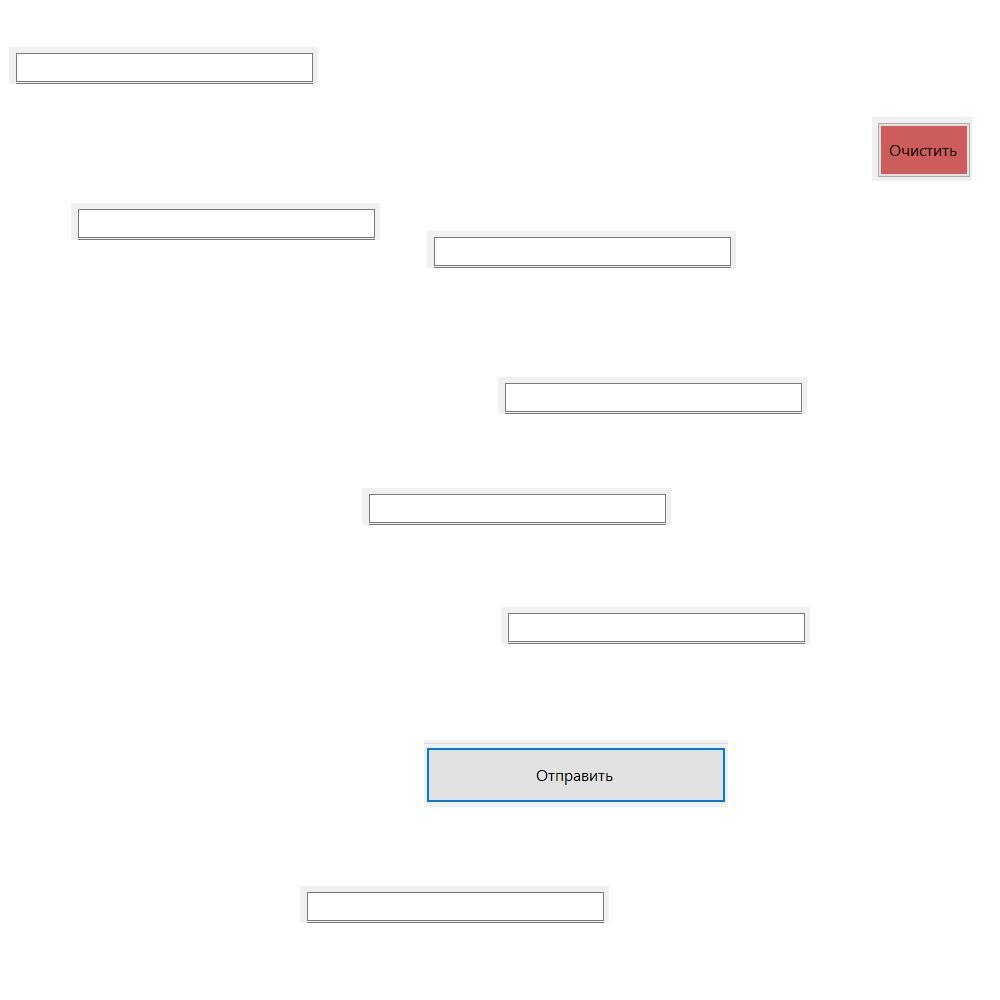Button: (424, 740, 728, 807), (872, 117, 972, 181)
EditText-: (71, 203, 380, 240), (362, 488, 671, 525), (427, 231, 736, 268), (300, 886, 609, 923), (501, 607, 810, 644), (498, 377, 807, 414), (9, 47, 318, 84)
